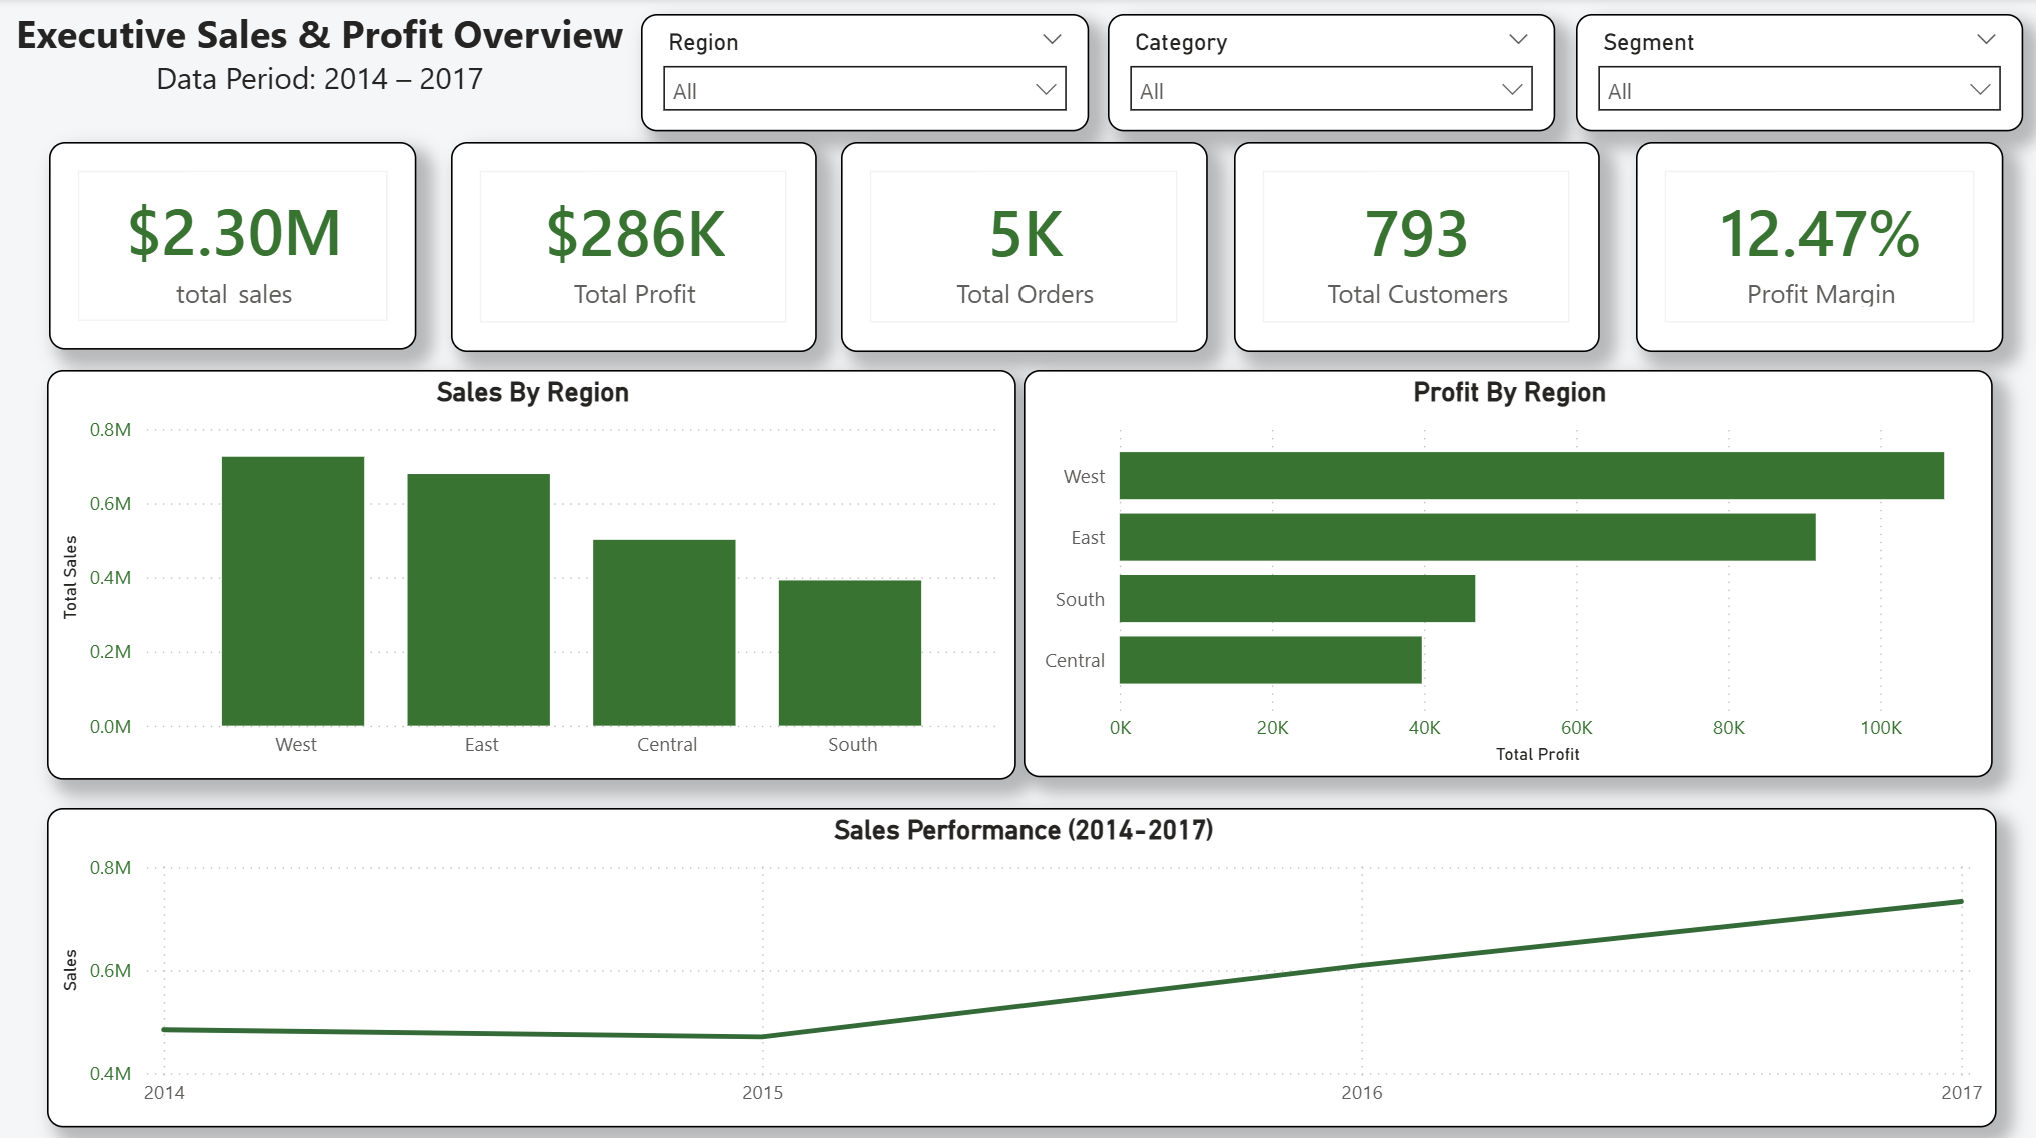

This screenshot's page, from the dashboard's own definition file:
{"tool":"powerbi","page":{"name":"Executive Overview","canvas":[1280,720],"ordinal":0},"visuals":[{"type":"textbox","box":[0,0,401.7,83.3],"z":0},{"type":"slicer","title":"What is the total Sales by region?","fields":{"Values":["superstore_cleaned.Region"]},"box":[401.7,10,280,73.3],"z":1000},{"type":"slicer","title":"What is the total Sales by region?","fields":{"Values":["superstore_cleaned.Category"]},"box":[693.3,10,280,73.3],"z":2000},{"type":"slicer","title":"What is the total Sales by region?","fields":{"Values":["superstore_cleaned.Segment"]},"box":[986.7,10,280,73.3],"z":3000},{"type":"cardVisual","fields":{"Data":["superstore_cleaned.total_profit"]},"box":[282.9,89.6,228.8,131.2],"z":4000},{"type":"cardVisual","fields":{"Data":["superstore_cleaned.total_orders"]},"box":[526.7,89.6,228.8,131.2],"z":5000},{"type":"cardVisual","fields":{"Data":["superstore_cleaned.total_customers"]},"box":[772.9,89.6,228.8,131.2],"z":6000},{"type":"cardVisual","fields":{"Data":["superstore_cleaned.final_profit_margin"]},"box":[1024.2,89.6,230,131.2],"z":7000},{"type":"cardVisual","fields":{"Data":["superstore_cleaned.total_sales"]},"box":[30.8,90,230,130],"z":8000},{"type":"columnChart","title":"Sales By Region","fields":{"Category":["superstore_cleaned.Region"],"Y":["Sum(superstore_cleaned.Sales)"]},"box":[30,233.3,606.7,256.7],"z":9000},{"type":"barChart","title":"Profit By Region","fields":{"Category":["superstore_cleaned.Region"],"Y":["Sum(superstore_cleaned.Profit)"]},"box":[641.7,233.3,606.7,255],"z":10000},{"type":"lineChart","title":"Sales Performance (2014-2017)","fields":{"Y":["Sum(superstore_cleaned.Sales)"],"Category":["superstore_cleaned.Order Date.Variation.Date Hierarchy.Year"]},"box":[30,506.7,1220,200],"z":11000}]}

Visuals, with their boxes in screenshot pixels (x1, y1, x2, y2), scaled from the page's 1280x720 canvas onto the 2036x1138 screenshot:
textbox: <bbox>0, 0, 639, 132</bbox>
"What is the total Sales by region?" slicer: <bbox>639, 16, 1084, 132</bbox>
"What is the total Sales by region?" slicer: <bbox>1103, 16, 1548, 132</bbox>
"What is the total Sales by region?" slicer: <bbox>1569, 16, 2015, 132</bbox>
cardVisual - superstore_cleaned.total_profit: <bbox>450, 142, 814, 349</bbox>
cardVisual - superstore_cleaned.total_orders: <bbox>838, 142, 1202, 349</bbox>
cardVisual - superstore_cleaned.total_customers: <bbox>1229, 142, 1593, 349</bbox>
cardVisual - superstore_cleaned.final_profit_margin: <bbox>1629, 142, 1995, 349</bbox>
cardVisual - superstore_cleaned.total_sales: <bbox>49, 142, 415, 348</bbox>
"Sales By Region" columnChart: <bbox>48, 369, 1013, 774</bbox>
"Profit By Region" barChart: <bbox>1021, 369, 1986, 772</bbox>
"Sales Performance (2014-2017)" lineChart: <bbox>48, 801, 1988, 1117</bbox>
